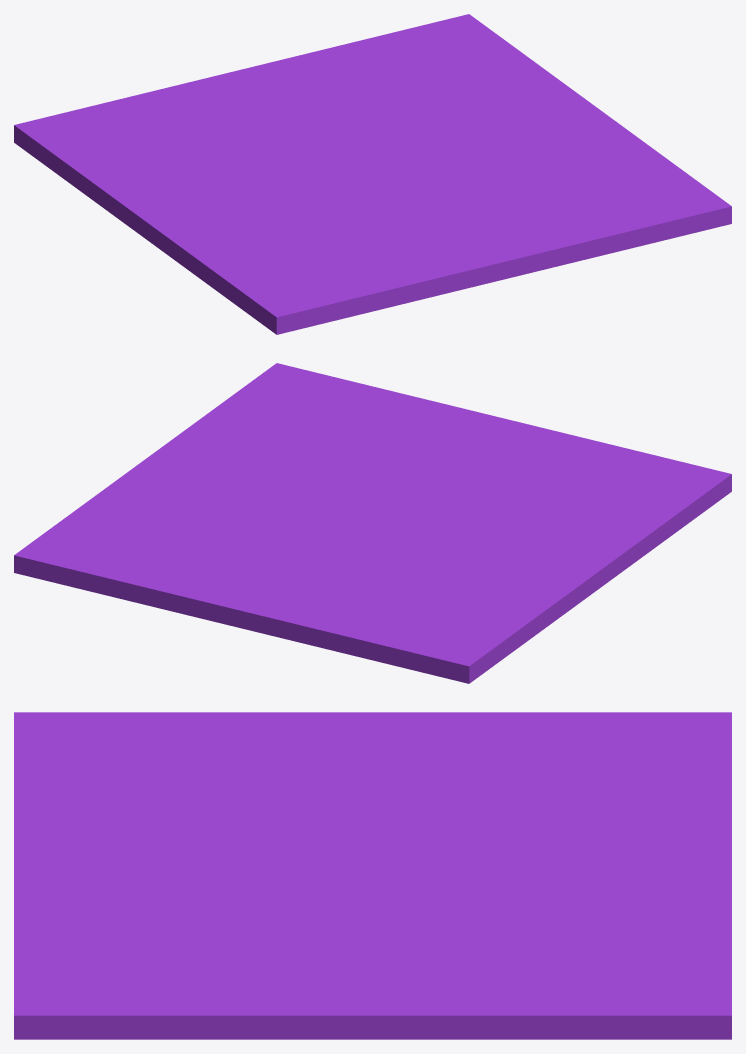
Rendered from Platform_11_chunks.fbx.
3 views of the same model, one above another, from view 1: azimuth 30°, elevation 25°; view 2: azimuth 150°, elevation 25°; view 3: azimuth 270°, elevation 25° (orthographic). The views are drawn at different scales.
Visible parts, largest first — view 1: Platform_11_1, Platform_11_0, Platform_11_4, Platform_11_10, Platform_11_11, Platform_11_7, Platform_11_3, Platform_11_12, Platform_11_14, Platform_11_9, Platform_11_5, Platform_11_6 (+1 smaller); view 2: Platform_11_1, Platform_11_10, Platform_11_0, Platform_11_11, Platform_11_7, Platform_11_4, Platform_11_3, Platform_11_12, Platform_11_14, Platform_11_9, Platform_11_6, Platform_11_5 (+1 smaller); view 3: Platform_11_0, Platform_11_1, Platform_11_11, Platform_11_10, Platform_11_4, Platform_11_7, Platform_11_3, Platform_11_12, Platform_11_9, Platform_11_6, Platform_11_14, Platform_11_5 (+1 smaller).
Boxes of the visible parts, x1,y1,x2,y2 form: Platform_11_1: [14, 102, 338, 203]; Platform_11_0: [364, 76, 686, 173]; Platform_11_4: [466, 181, 731, 279]; Platform_11_10: [109, 42, 379, 140]; Platform_11_11: [355, 14, 553, 119]; Platform_11_7: [319, 172, 500, 323]; Platform_11_3: [239, 156, 375, 309]; Platform_11_12: [97, 188, 251, 285]; Platform_11_14: [208, 255, 326, 334]; Platform_11_9: [276, 106, 457, 161]; Platform_11_5: [318, 231, 501, 324]; Platform_11_6: [454, 173, 697, 199]; Platform_11_1: [369, 532, 555, 683]; Platform_11_10: [128, 542, 383, 662]; Platform_11_0: [99, 396, 385, 519]; Platform_11_11: [14, 493, 246, 600]; Platform_11_7: [347, 445, 677, 509]; Platform_11_4: [243, 363, 542, 450]; Platform_11_3: [368, 461, 683, 547]; Platform_11_12: [506, 514, 665, 622]; Platform_11_14: [611, 462, 731, 539]; Platform_11_9: [236, 506, 370, 562]; Platform_11_6: [232, 388, 378, 481]; Platform_11_5: [456, 428, 632, 449]; Platform_11_0: [137, 861, 498, 1039]; Platform_11_1: [375, 712, 731, 853]; Platform_11_11: [444, 908, 731, 1039]; Platform_11_10: [509, 775, 731, 939]; Platform_11_4: [14, 838, 189, 1039]; Platform_11_7: [14, 748, 350, 904]; Platform_11_3: [14, 744, 420, 862]; Platform_11_12: [200, 712, 495, 774]; Platform_11_9: [391, 832, 535, 937]; Platform_11_6: [95, 899, 296, 1039]; Platform_11_14: [14, 712, 204, 756]; Platform_11_5: [14, 778, 121, 869].
Size of the model in its own units: 810 by 29.87 by 810.
